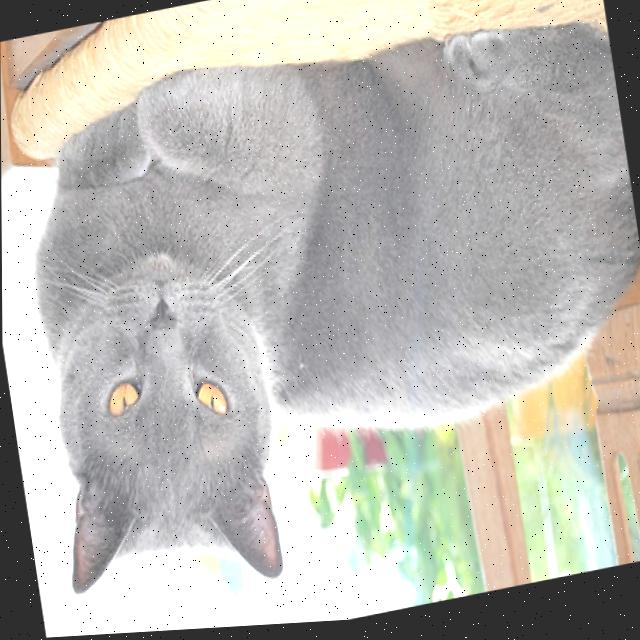British Shorthair: (0, 0, 640, 627)
